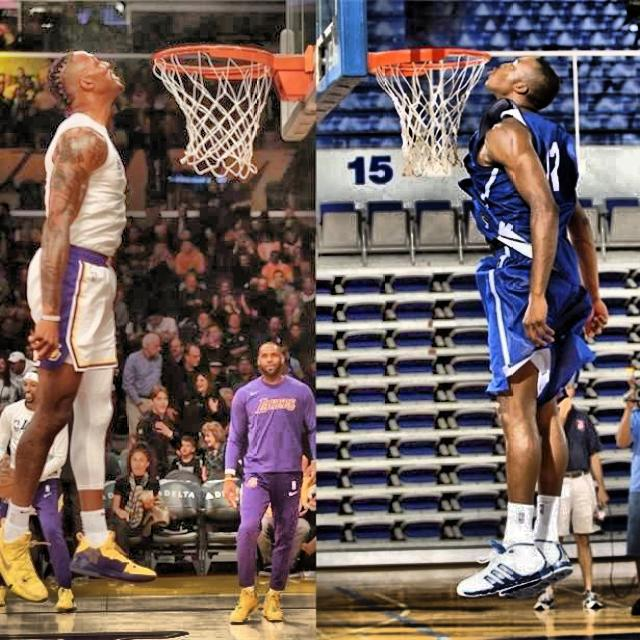rim: (152, 45, 278, 180), (373, 48, 478, 174)
